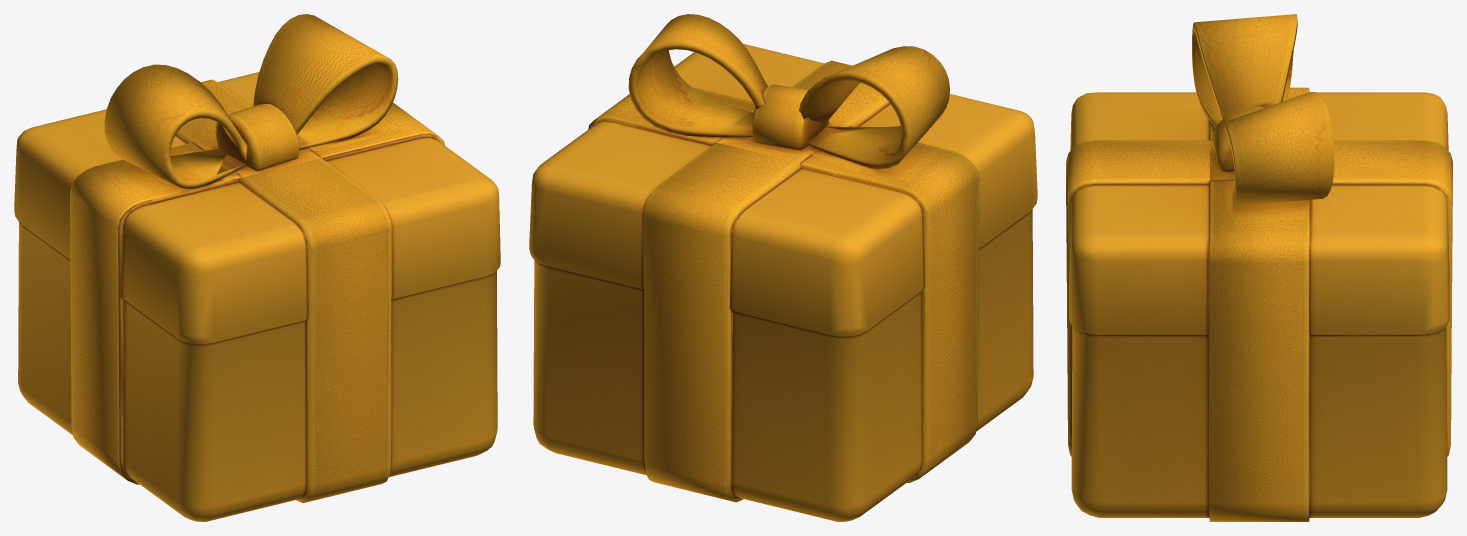
The model's file is gift.glb.
3 views of the same model, side by side, from view 1: azimuth 30°, elevation 25°; view 2: azimuth 150°, elevation 25°; view 3: azimuth 270°, elevation 25° (orthographic). The views are drawn at different scales.
Parts seen in each view (by area): view 1: tripo_node_e009f8d0-b71d-4a4d-bd7e-ce0b21f1ccd2; view 2: tripo_node_e009f8d0-b71d-4a4d-bd7e-ce0b21f1ccd2; view 3: tripo_node_e009f8d0-b71d-4a4d-bd7e-ce0b21f1ccd2.
Part boxes in pixels (x1=…): tripo_node_e009f8d0-b71d-4a4d-bd7e-ce0b21f1ccd2: x1=14, y1=14, x2=500, y2=521; tripo_node_e009f8d0-b71d-4a4d-bd7e-ce0b21f1ccd2: x1=529, y1=14, x2=1037, y2=521; tripo_node_e009f8d0-b71d-4a4d-bd7e-ce0b21f1ccd2: x1=1066, y1=14, x2=1452, y2=521.
Bounding box in the file's own units: 0.9038 × 0.9995 × 0.8999.
1 material, 1 textured.
